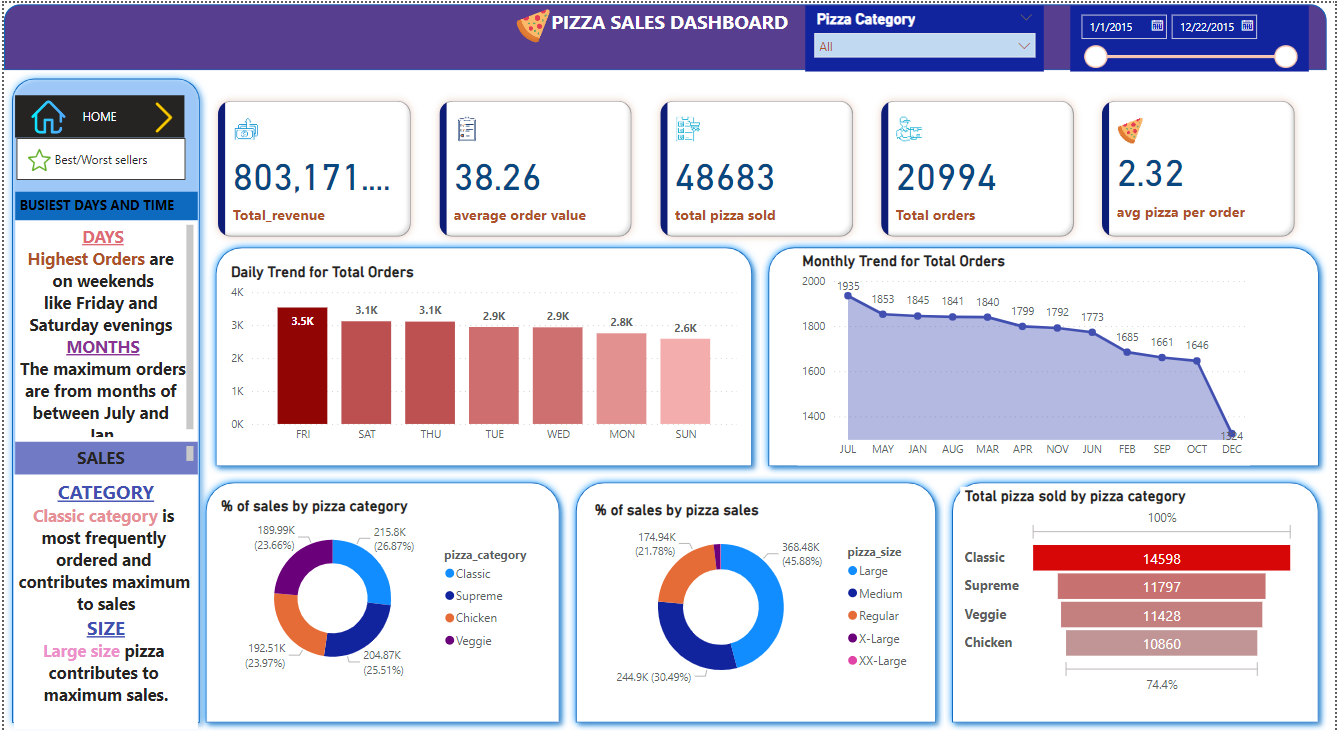

The dashboard page shown, as its layout file describes it:
{"tool":"powerbi","page":{"name":"HOME","canvas":[1500,820],"ordinal":0},"visuals":[{"type":"actionButton","box":[0,0,100,40],"z":2000},{"type":"cardVisual","fields":{"Data":["sales_pizza.Total_revenue","sales_pizza.average order value","sales_pizza.total pizza sold","sales_pizza.Total orders","sales_pizza.avg pizza per order"]},"box":[225.4,94.4,1245.1,185.9],"z":3000},{"type":"shape","box":[0,1.4,1490.1,74.6],"z":4000},{"type":"textbox","box":[571.8,1.4,356.3,49.3],"z":5000},{"type":"image","box":[571.8,1.4,49.3,49.3],"z":5001},{"type":"shape","box":[229.6,266.2,622.5,264.8],"z":5002},{"type":"columnChart","title":"Daily Trend for Total Orders","fields":{"Category":["sales_pizza.Order Day"],"Y":["sales_pizza.Total orders"]},"box":[250.7,293,580.3,211.3],"z":5003},{"type":"shape","box":[852.1,266.2,638,264.8],"z":5004},{"type":"areaChart","title":"Monthly Trend for Total Orders","fields":{"Category":["sales_pizza.Month shortname"],"Y":["sales_pizza.Total orders"]},"box":[894.4,280.3,509.9,240.8],"z":5005},{"type":"shape","box":[218.3,531,416.9,288.7],"z":5006},{"type":"shape","box":[635.2,531,423.9,288.7],"z":5007},{"type":"shape","box":[1059.2,531,431,288.7],"z":5008},{"type":"donutChart","title":"% of sales by pizza category","fields":{"Y":["sales_pizza.Total_revenue"],"Category":["sales_pizza.pizza_category"]},"box":[239.4,556.3,370.4,209.9],"z":5009},{"type":"donutChart","title":"% of sales by pizza sales","fields":{"Category":["sales_pizza.pizza_size"],"Y":["sales_pizza.Total_revenue"]},"box":[660.6,560.6,374.6,221.1],"z":5010},{"type":"funnel","title":"Total pizza sold by pizza category","fields":{"Category":["sales_pizza.pizza_category"],"Y":["sales_pizza.total pizza sold"]},"box":[1077.5,545.1,381.7,236.6],"z":5011},{"type":"shape","box":[0,76.1,229.6,743.7],"z":5012},{"type":"textbox","box":[12.7,212.7,205.6,32.4],"z":5013},{"type":"textbox","box":[12.7,245.1,205.6,249.3],"z":5014},{"type":"textbox","box":[11.3,531,207,287.3],"z":5015},{"type":"textbox","box":[12.7,494.4,205.6,36.6],"z":5016},{"type":"slicer","fields":{"Values":["sales_pizza.pizza_category"]},"box":[902.8,2.8,269,74.6],"z":5017},{"type":"slicer","fields":{"Values":["sales_pizza.order_date"]},"box":[1201.4,2.8,269,74.6],"z":5018},{"type":"pageNavigator","box":[12.7,104.2,190.1,47.9],"z":5019},{"type":"pageNavigator","box":[14.1,152.1,190.1,47.9],"z":5020},{"type":"image","box":[14.1,104.2,71.8,47.9],"z":5021},{"type":"image","box":[157.7,98.6,45.1,60.6],"z":5022},{"type":"image","box":[12.7,159.2,54.9,35.2],"z":5023}]}

Visuals, with their boxes in screenshot pixels (x1, y1, x2, y2), scaled from the page's 1500x820 canvas onto the 1337x731 screenshot:
actionButton: crop(0, 0, 89, 36)
cardVisual - sales_pizza.Total_revenue x sales_pizza.average order value: crop(201, 84, 1311, 250)
shape: crop(0, 1, 1328, 68)
textbox: crop(510, 1, 827, 45)
image: crop(510, 1, 554, 45)
shape: crop(205, 237, 760, 473)
"Daily Trend for Total Orders" columnChart: crop(223, 261, 741, 450)
shape: crop(760, 237, 1328, 473)
"Monthly Trend for Total Orders" areaChart: crop(797, 250, 1252, 465)
shape: crop(195, 473, 566, 730)
shape: crop(566, 473, 944, 730)
shape: crop(944, 473, 1328, 730)
"% of sales by pizza category" donutChart: crop(213, 496, 544, 683)
"% of sales by pizza sales" donutChart: crop(589, 500, 923, 697)
"Total pizza sold by pizza category" funnel: crop(960, 486, 1301, 697)
shape: crop(0, 68, 205, 730)
textbox: crop(11, 190, 195, 218)
textbox: crop(11, 218, 195, 441)
textbox: crop(10, 473, 195, 729)
textbox: crop(11, 441, 195, 473)
slicer - sales_pizza.pizza_category: crop(805, 2, 1044, 69)
slicer - sales_pizza.order_date: crop(1071, 2, 1311, 69)
pageNavigator: crop(11, 93, 181, 136)
pageNavigator: crop(13, 136, 182, 178)
image: crop(13, 93, 77, 136)
image: crop(141, 88, 181, 142)
image: crop(11, 142, 60, 173)
